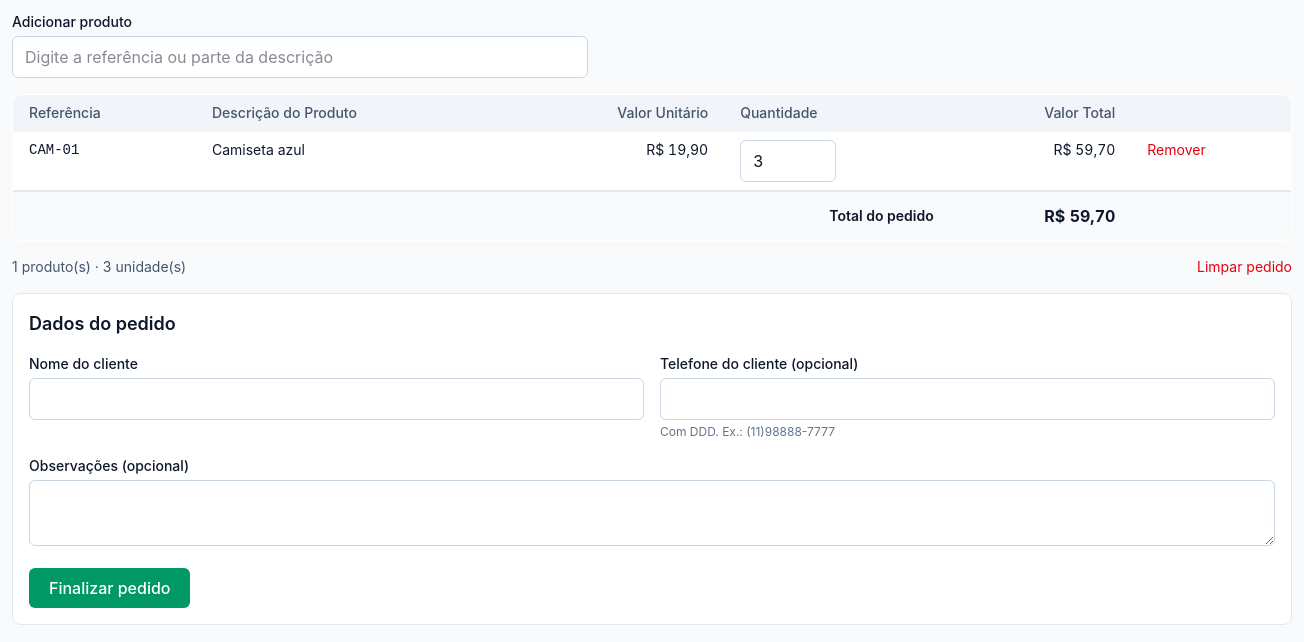
GuestOrderBuilder — pedido de quem não tem cadastro › em sucesso, limpa o pedido guardado e mostra a confirmação (sem navegar)
This screenshot has width=1304, height=642.
Type "Maria" into the field labelled "Nome do cliente" at (336,399), box 29,378 -> 644,420
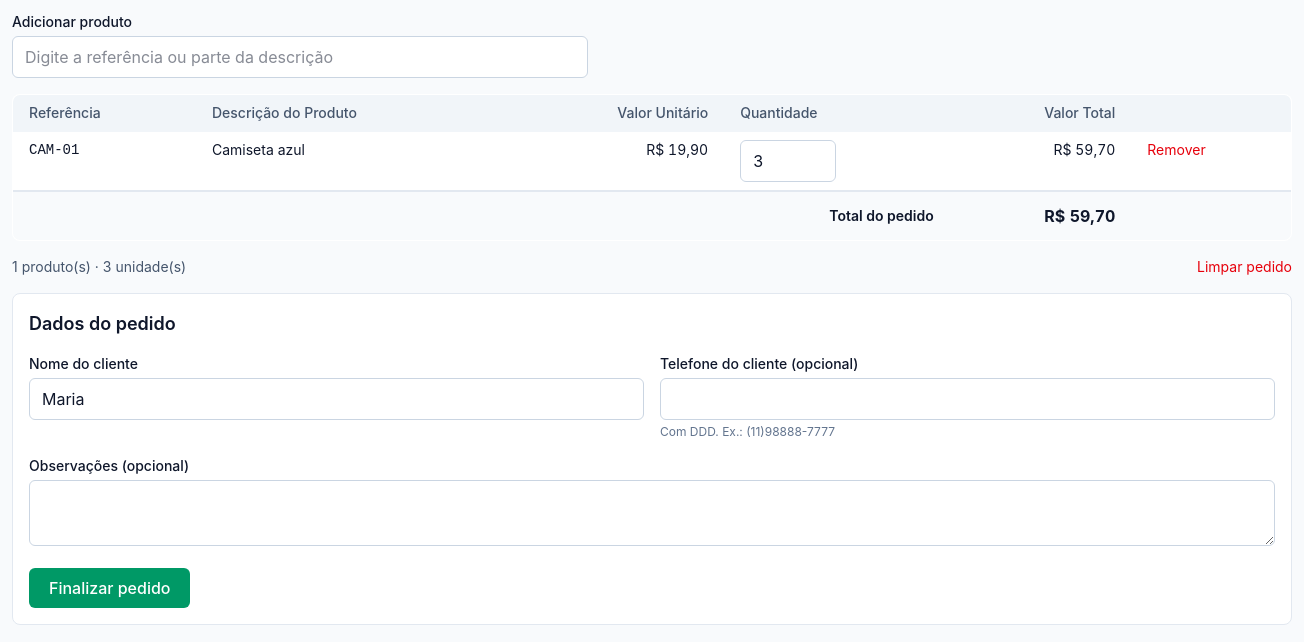
Submit the form named "Finalizar pedido", box 12,293 -> 1292,625
Wait 5000 ms
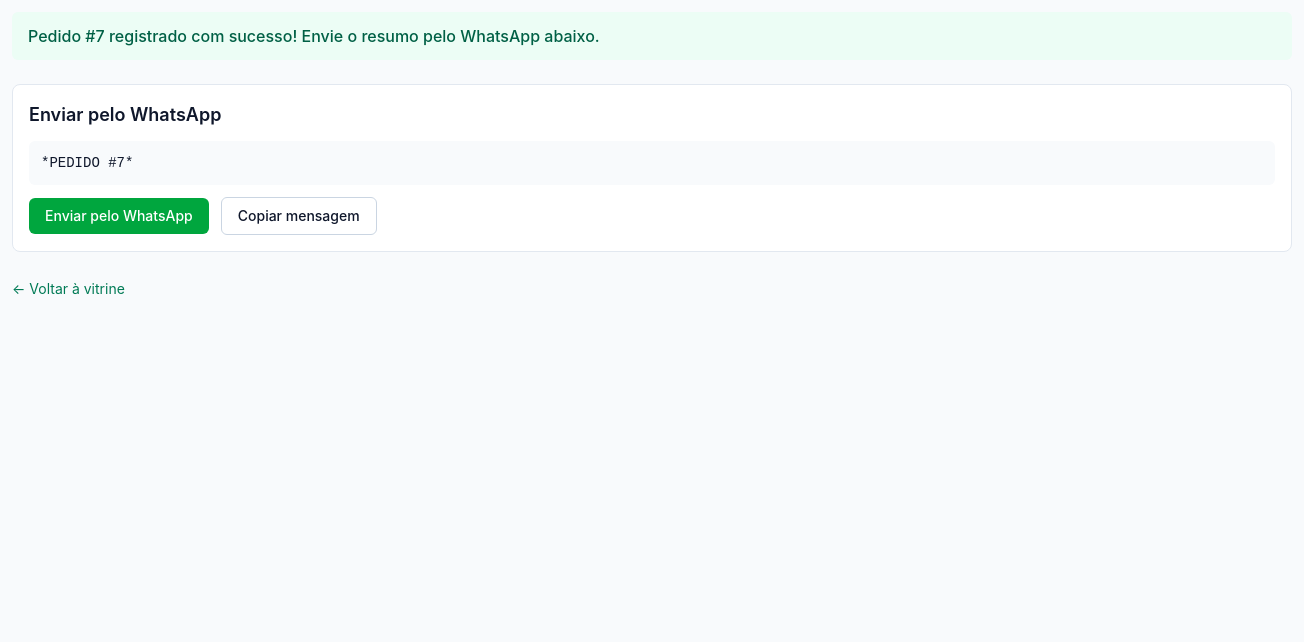
expect the message with test id "order-created-banner" shows "Pedido #7 registrado com sucesso": met, box 12,12 -> 1292,60
